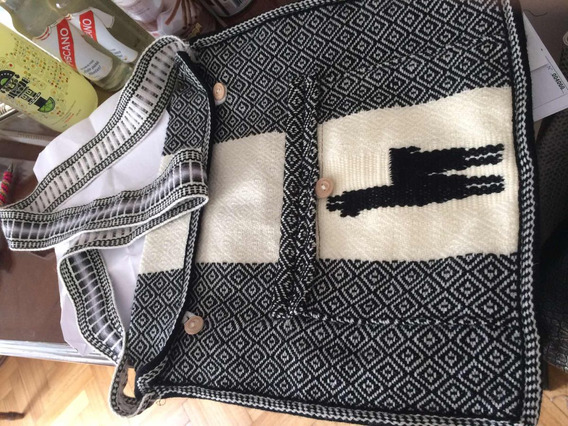cartera: (9, 5, 544, 426)
